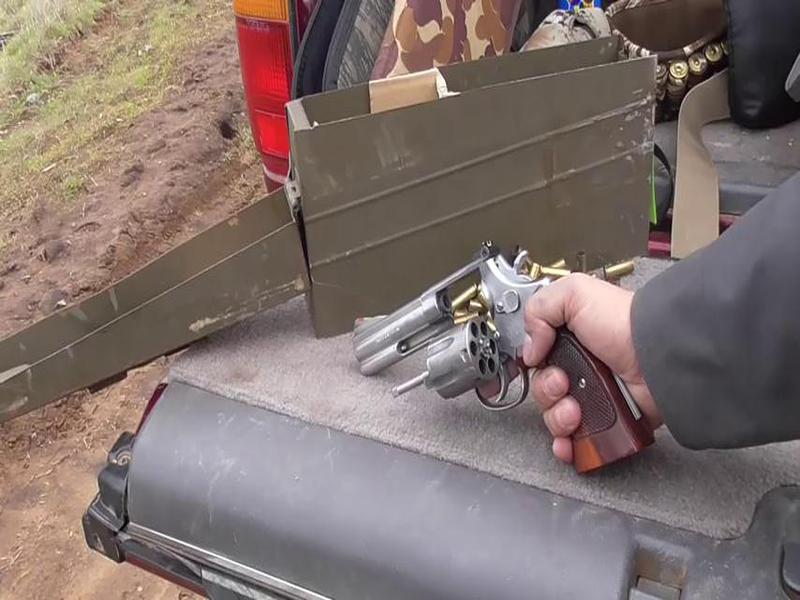Revolver: (354, 234, 669, 488)
